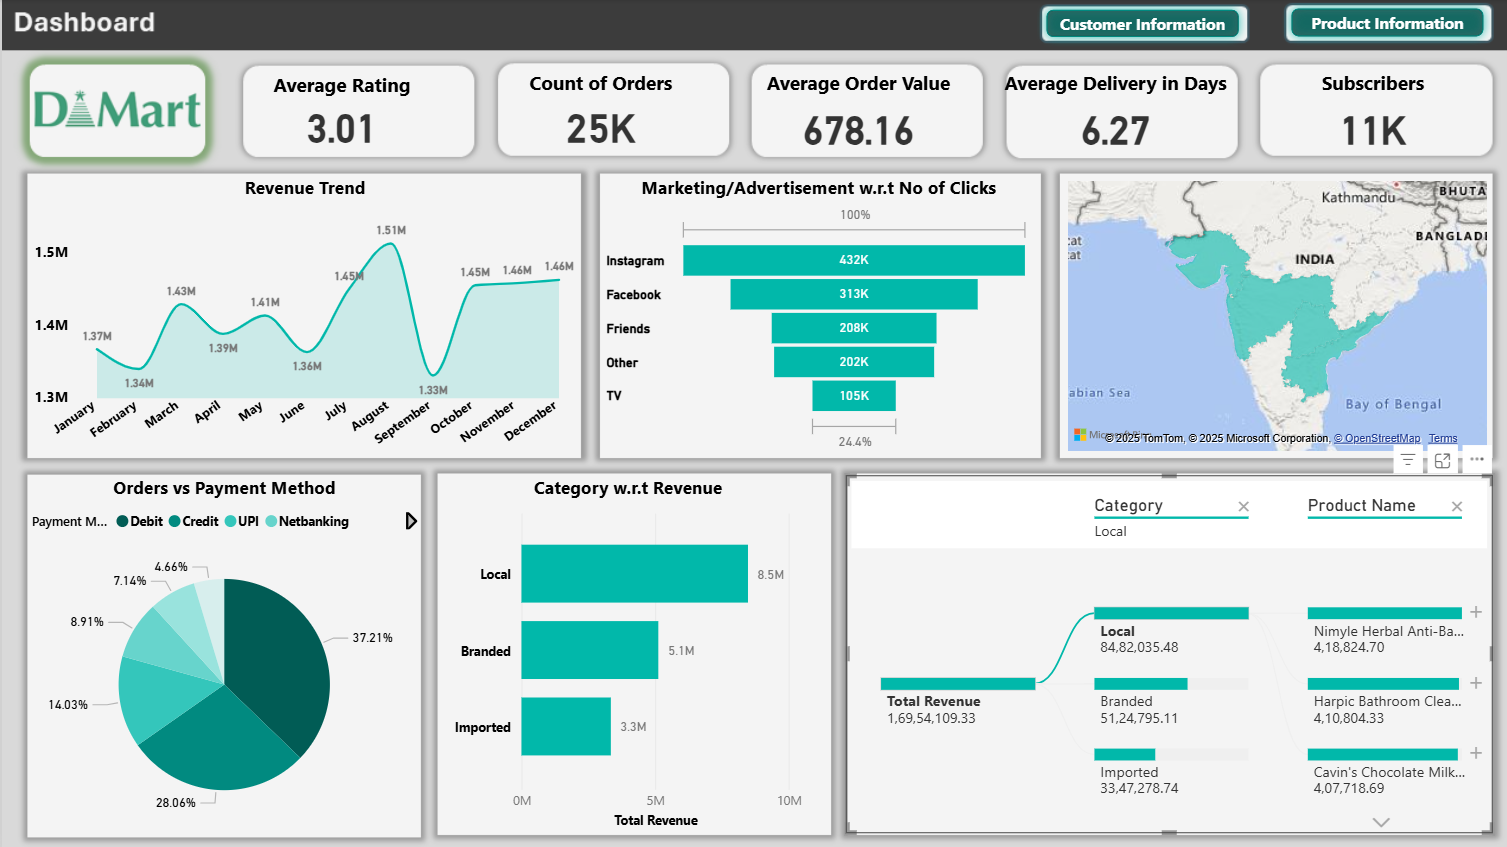

Layout of this report page (visuals, bound fields, positions):
{"tool":"powerbi","page":{"name":"Report","canvas":[1280,720],"ordinal":0},"visuals":[{"type":"card","title":"Count of Orders","fields":{"Values":["Dmart+Dataset_Tableau.Total Orders"]},"box":[408.1,59.3,194.2,74.4],"z":0},{"type":"card","title":"Average Order Value","fields":{"Values":["Dmart+Dataset_Tableau.Average Order Value"]},"box":[629.1,59.3,186,77.9],"z":1000},{"type":"card","title":"Subscribers","fields":{"Values":["Dmart+Dataset_Tableau.Total Subscribers"]},"box":[1064,59.3,184.9,77.9],"z":2000},{"type":"card","title":"Average Delivery in Days","fields":{"Values":["Avg(Dmart+Dataset_Tableau.Average Delivery Days)"]},"box":[839.5,59.3,200,77.9],"z":3000},{"type":"areaChart","title":"Revenue Trend","fields":{"Category":["Dmart+Dataset_Tableau.Order Date.Variation.Date Hierarchy.Month"],"Y":["Dmart+Dataset_Tableau.Total Revenue"]},"box":[22.1,148.7,467.1,238.3],"z":4000},{"type":"filledMap","fields":{"Category":["Dmart+Dataset_Tableau.State"]},"box":[894.2,148.7,363.8,238.3],"z":5000},{"type":"decompositionTreeVisual","fields":{"ExplainBy":["Dmart+Dataset_Tableau.Category","Dmart+Dataset_Tableau.Product Name","Dmart+Dataset_Tableau.Ship Mode","Dmart+Dataset_Tableau.Payment Status","Dmart+Dataset_Tableau.Subscription","Dmart+Dataset_Tableau.Payment Method","Dmart+Dataset_Tableau.State","Dmart+Dataset_Tableau.City","Dmart+Dataset_Tableau.Marketing/Advertisement"],"Analyze":["Dmart+Dataset_Tableau.Total Revenue"]},"box":[711.8,401.8,546.2,302.6],"z":6000},{"type":"clusteredBarChart","title":"Category w.r.t Revenue","fields":{"Category":["Dmart+Dataset_Tableau.Category"],"Y":["Dmart+Dataset_Tableau.Total Revenue"]},"box":[375.4,401.8,305.8,302.6],"z":7000},{"type":"pieChart","title":"Orders vs Payment Method","fields":{"Category":["Dmart+Dataset_Tableau.Payment Method"],"Y":["Dmart+Dataset_Tableau.Total Orders"]},"box":[20,401.8,335.3,305.8],"z":8000},{"type":"card","title":"Average Rating","fields":{"Values":["Avg(Dmart+Dataset_Tableau.Rating)"]},"box":[190.7,61.6,191.9,69.8],"z":9000},{"type":"shape","title":"Product Information","box":[1080.2,0,177.9,39.5],"z":10000},{"type":"shape","title":"Product Information","box":[873.1,1.1,178.2,39],"z":11000},{"type":"funnel","title":" Marketing/Advertisement w.r.t No of Clicks","fields":{"Category":["Dmart+Dataset_Tableau.Marketing/Advertisement","Dmart+Dataset_Tableau.Subscription"],"Y":["Sum(Dmart+Dataset_Tableau.No of Clicks)"]},"box":[505.1,148.7,368,238.3],"z":12000}]}

Visuals, with their boxes in screenshot pixels (x1, y1, x2, y2), scaled from the page's 1280x720 canvas onto the 1507x847 screenshot:
"Count of Orders" card: locate(480, 70, 709, 157)
"Average Order Value" card: locate(741, 70, 960, 161)
"Subscribers" card: locate(1253, 70, 1470, 161)
"Average Delivery in Days" card: locate(988, 70, 1224, 161)
"Revenue Trend" areaChart: locate(26, 175, 576, 455)
filledMap - Dmart+Dataset_Tableau.State: locate(1053, 175, 1481, 455)
decompositionTreeVisual - Dmart+Dataset_Tableau.Category x Dmart+Dataset_Tableau.Product Name: locate(838, 473, 1481, 829)
"Category w.r.t Revenue" clusteredBarChart: locate(442, 473, 802, 829)
"Orders vs Payment Method" pieChart: locate(24, 473, 418, 832)
"Average Rating" card: locate(225, 72, 450, 155)
"Product Information" shape: locate(1272, 0, 1481, 46)
"Product Information" shape: locate(1028, 1, 1238, 47)
" Marketing/Advertisement w.r.t No of Clicks" funnel: locate(595, 175, 1028, 455)
